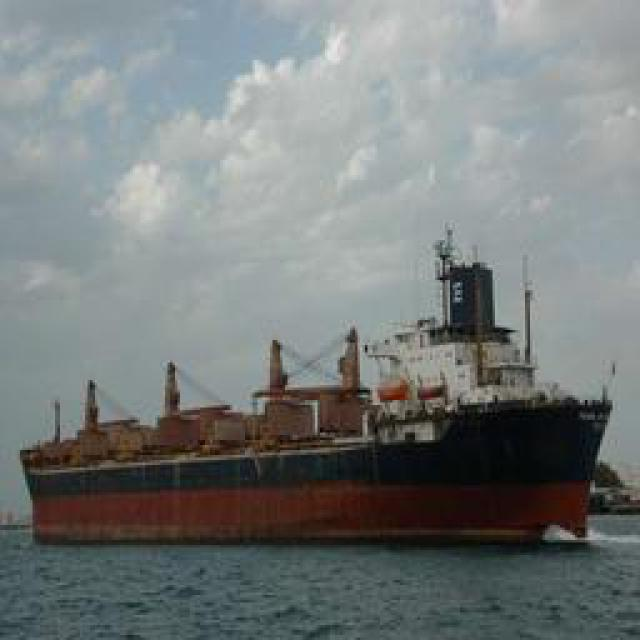Ship: (10, 357, 608, 555)
